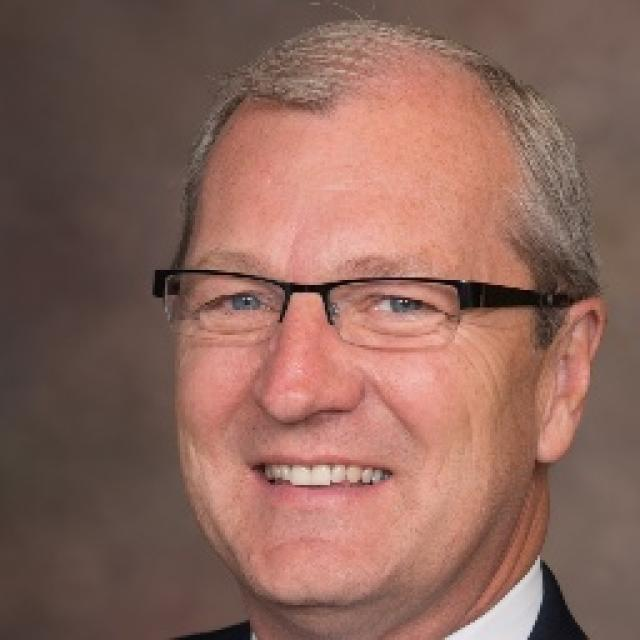earlobe: (534, 406, 574, 465)
eye: (362, 294, 435, 318), (203, 290, 270, 316)
nose: (244, 390, 366, 472)
wholeear: (534, 296, 607, 464)
